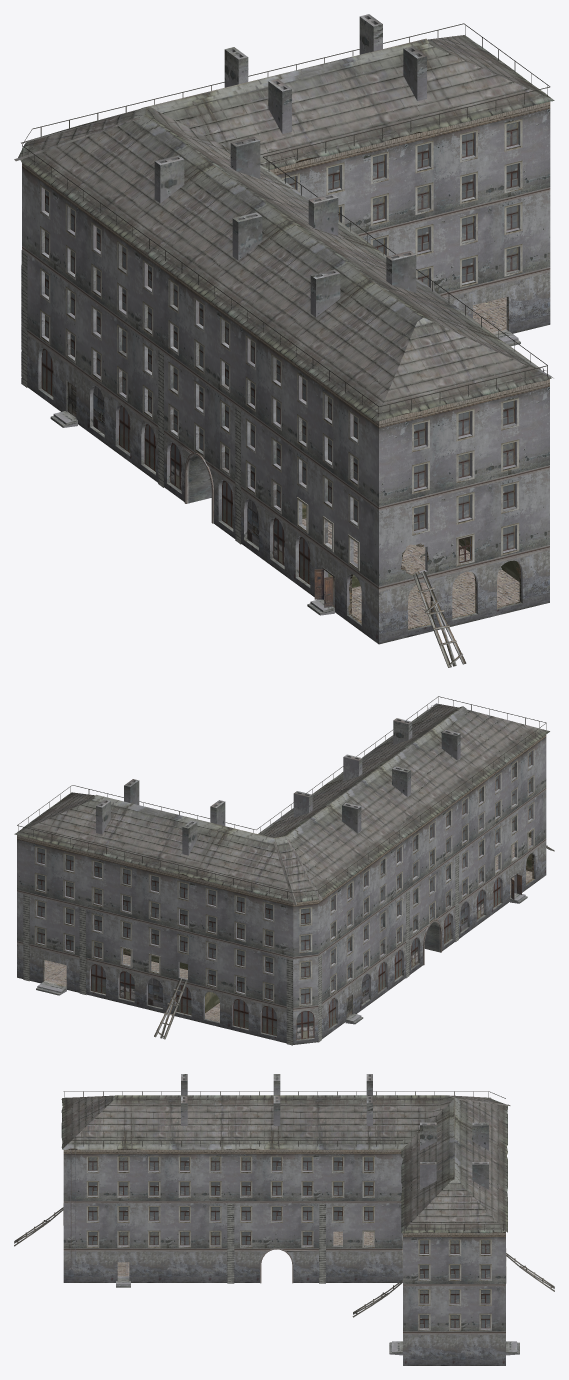
The model's file is Building_City_03_2_LOD2.FBX.
3 renders of one model, top to bottom at view 1: azimuth 30°, elevation 25°; view 2: azimuth 150°, elevation 25°; view 3: azimuth 270°, elevation 25°, orthographic. The views are drawn at different scales.
Parts seen in each view (by area): view 1: Building_City_03_2_LOD2, Building_City_03_2Roof_LOD2, Building_City_03__2Frame_LOD2, Building_City_03_2Tube_LOD2, Stairs_Wood_LOD2; view 2: Building_City_03_2_LOD2, Building_City_03_2Roof_LOD2, Building_City_03__2Frame_LOD2, Building_City_03_2Tube_LOD2, Stairs_Wood_LOD2; view 3: Building_City_03_2_LOD2, Building_City_03_2Roof_LOD2, Building_City_03__2Frame_LOD2, Building_City_03_2Tube_LOD2, Stairs_Metal_LOD2.
Part boxes in pixels (x1=…): Building_City_03_2_LOD2: x1=21, y1=101, x2=550, y2=644; Building_City_03_2Roof_LOD2: x1=14, y1=23, x2=554, y2=421; Building_City_03__2Frame_LOD2: x1=40, y1=119, x2=522, y2=571; Building_City_03_2Tube_LOD2: x1=154, y1=14, x2=426, y2=317; Stairs_Wood_LOD2: x1=413, y1=571, x2=466, y2=667; Building_City_03_2_LOD2: x1=17, y1=735, x2=546, y2=1045; Building_City_03_2Roof_LOD2: x1=14, y1=696, x2=549, y2=905; Building_City_03__2Frame_LOD2: x1=34, y1=748, x2=534, y2=1006; Building_City_03_2Tube_LOD2: x1=96, y1=718, x2=460, y2=855; Stairs_Wood_LOD2: x1=154, y1=978, x2=187, y2=1039; Building_City_03_2_LOD2: x1=63, y1=1148, x2=519, y2=1365; Building_City_03_2Roof_LOD2: x1=61, y1=1091, x2=510, y2=1233; Building_City_03__2Frame_LOD2: x1=63, y1=1156, x2=506, y2=1330; Building_City_03_2Tube_LOD2: x1=181, y1=1074, x2=488, y2=1189; Stairs_Metal_LOD2: x1=70, y1=1147, x2=75, y2=1269.
Size of the model in its own units: 3703 by 6141 by 2141.
Materials: 5 (5 with a texture image).
